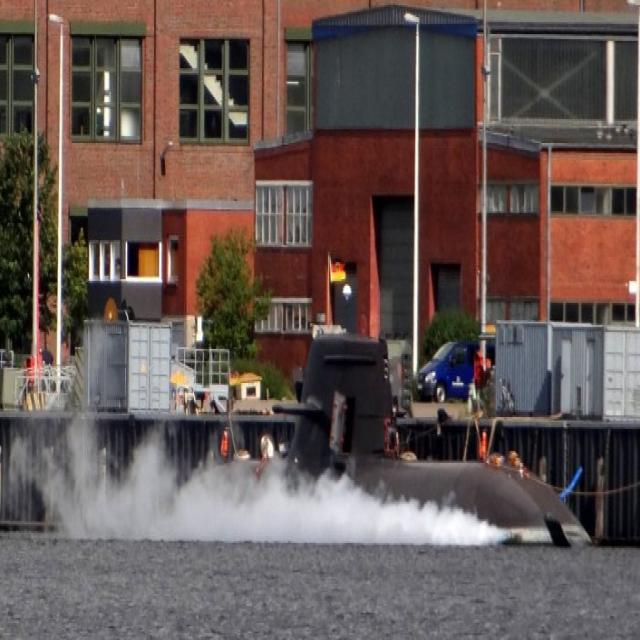submarine: (90, 338, 592, 551)
